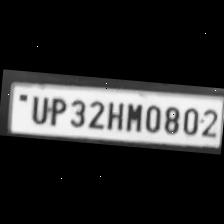0: (140, 100, 163, 134), (178, 104, 199, 136)
2: (197, 105, 220, 138), (86, 97, 106, 130)
3: (64, 96, 88, 128)
8: (160, 102, 182, 136)
H: (103, 98, 125, 132)
M: (121, 99, 144, 134)
P: (44, 93, 68, 126)
U: (26, 92, 48, 125)
